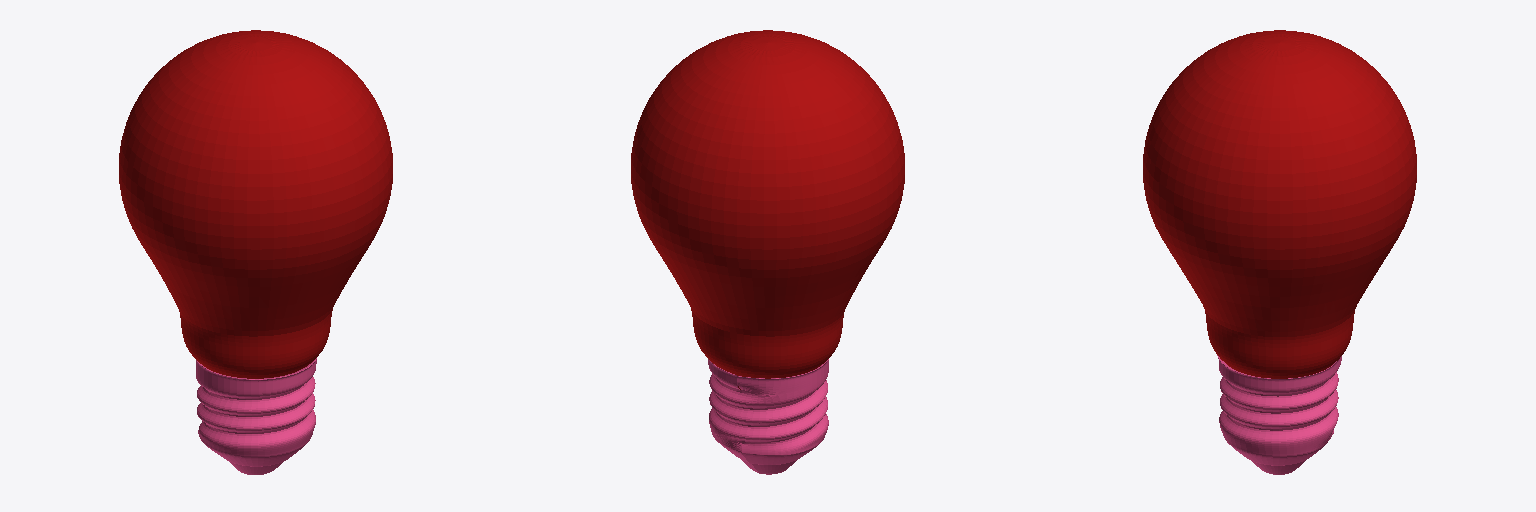
Rendered from Light_Bulb_OBJ.obj.
The picture shows the model from 3 angles: view 1: azimuth 30°, elevation 25°; view 2: azimuth 150°, elevation 25°; view 3: azimuth 270°, elevation 25°; orthographic projection.
Visible parts, largest first — view 1: foco, base; view 2: foco, base; view 3: foco, base.
Part boxes in pixels (x1,y1,x2,y2): foco: (119, 30, 392, 378); base: (196, 358, 316, 474); foco: (631, 30, 904, 389); base: (708, 359, 828, 474); foco: (1143, 30, 1416, 378); base: (1217, 355, 1341, 474).
Bounding box in the file's own units: 7934 × 13594 × 7934.